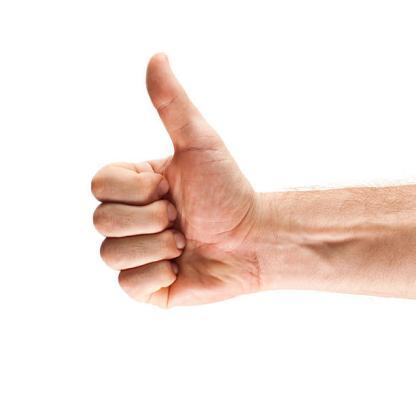thumb_up: (86, 46, 258, 316)
